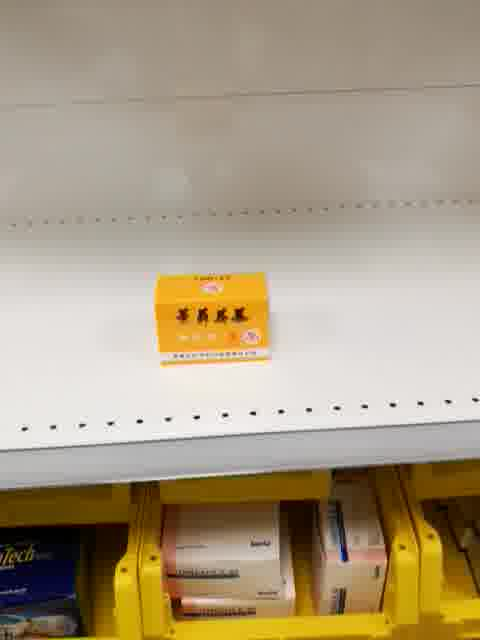jasminetea: (153, 270, 276, 367)
